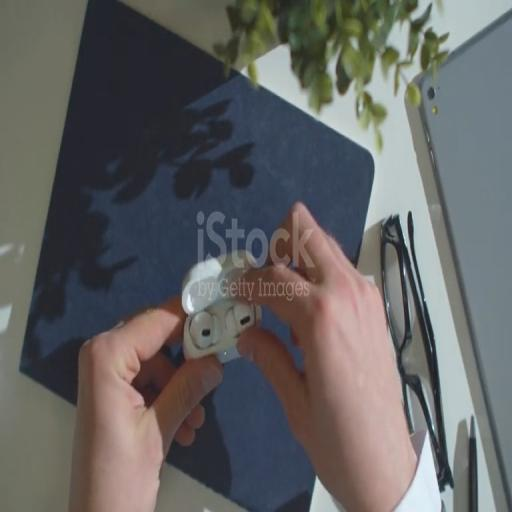earphone: (180, 247, 279, 381)
